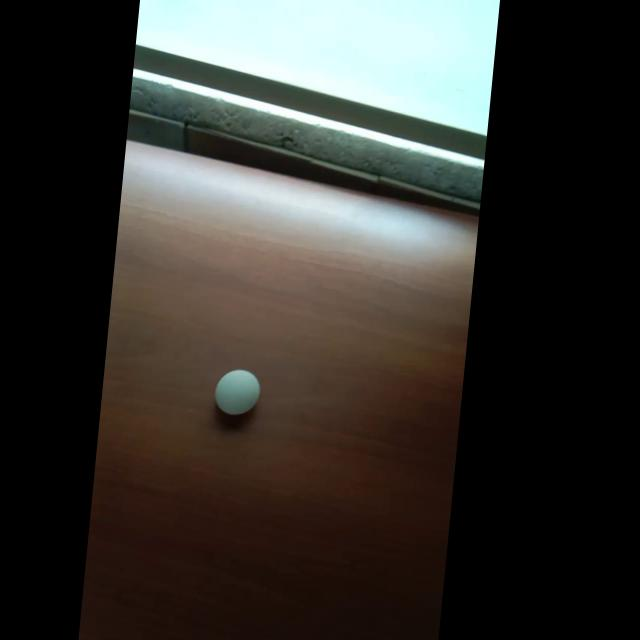white ball: (212, 368, 263, 416)
